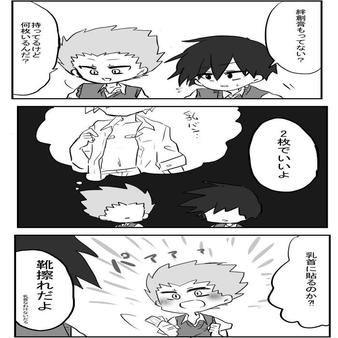bubble: (268, 235, 329, 327), (250, 116, 317, 190), (15, 249, 74, 330), (12, 0, 57, 96), (264, 2, 320, 72)
